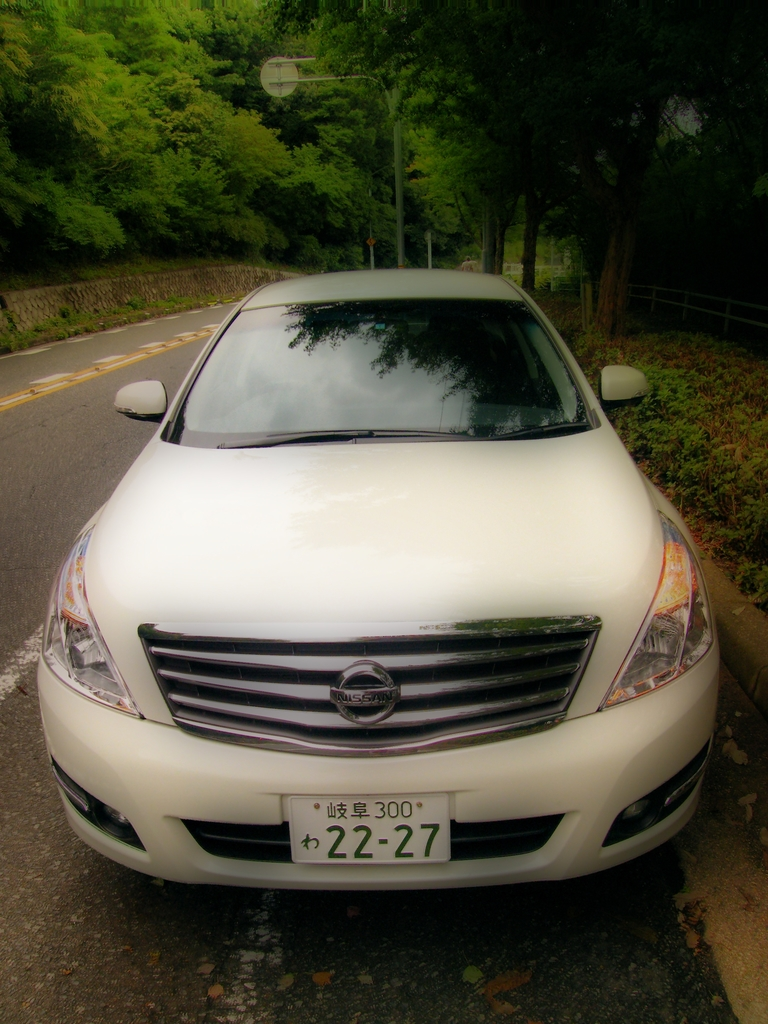Car: (24, 258, 740, 890)
